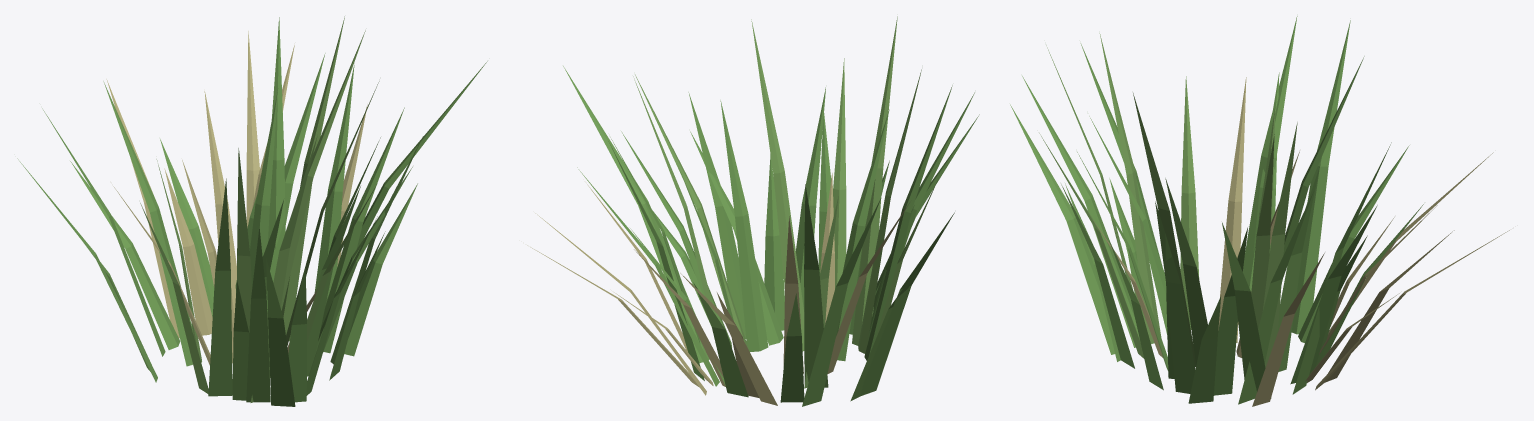
Rendered from grass_tuft.glb.
The picture shows the model from 3 angles, left to right: view 1: azimuth 30°, elevation 25°; view 2: azimuth 150°, elevation 25°; view 3: azimuth 270°, elevation 25°; orthographic projection. The views are drawn at different scales.
Parts seen in each view (by area): view 1: Body; view 2: Body; view 3: Body.
Boxes of the visible parts, <box> form: Body: <box>17,16,487,406</box>; Body: <box>527,16,979,406</box>; Body: <box>1010,16,1509,406</box>.
Bounding box in the file's own units: 0.7249 × 0.4753 × 0.7006.
